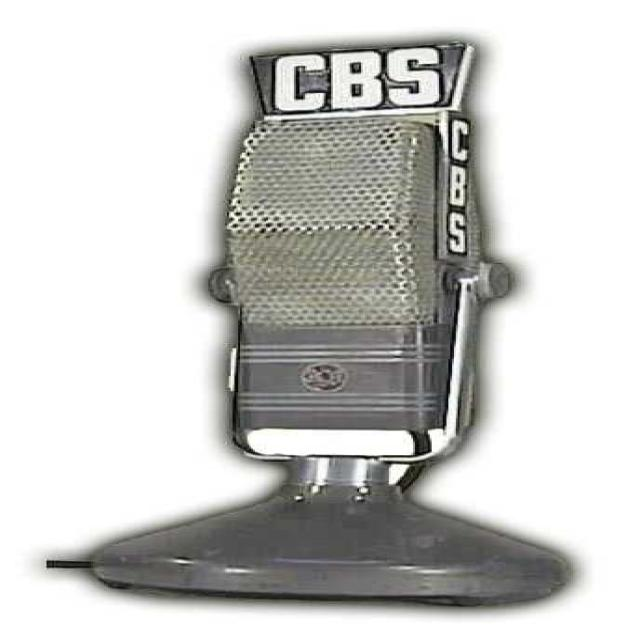microphone: (227, 124, 458, 455)
